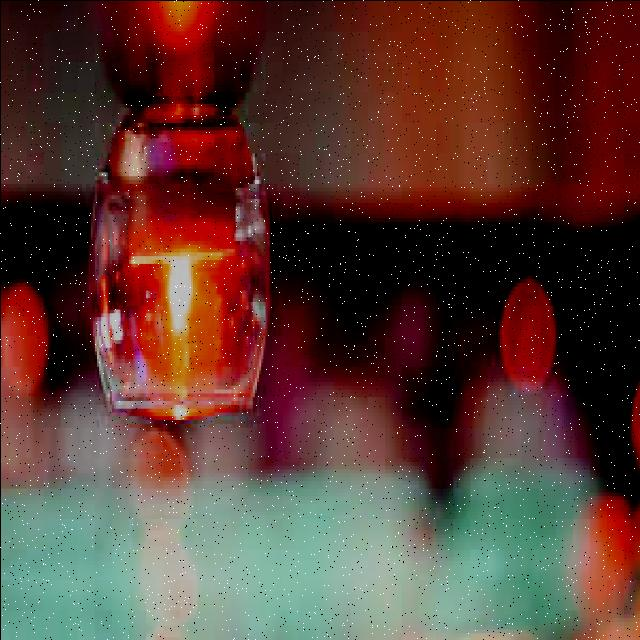api: (164, 253, 204, 352)
